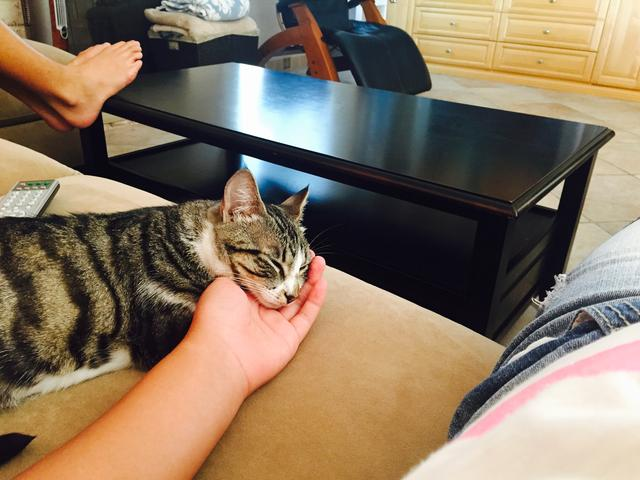playdoh: (1, 162, 312, 404)
